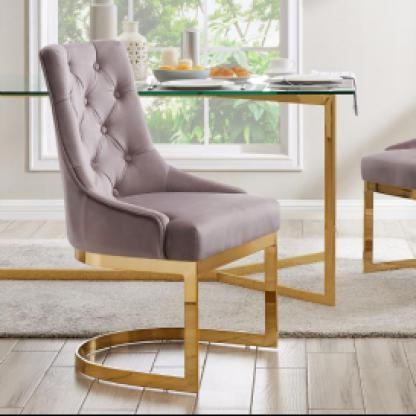chair: (24, 32, 301, 408), (358, 132, 416, 279)
table: (0, 74, 369, 306)
